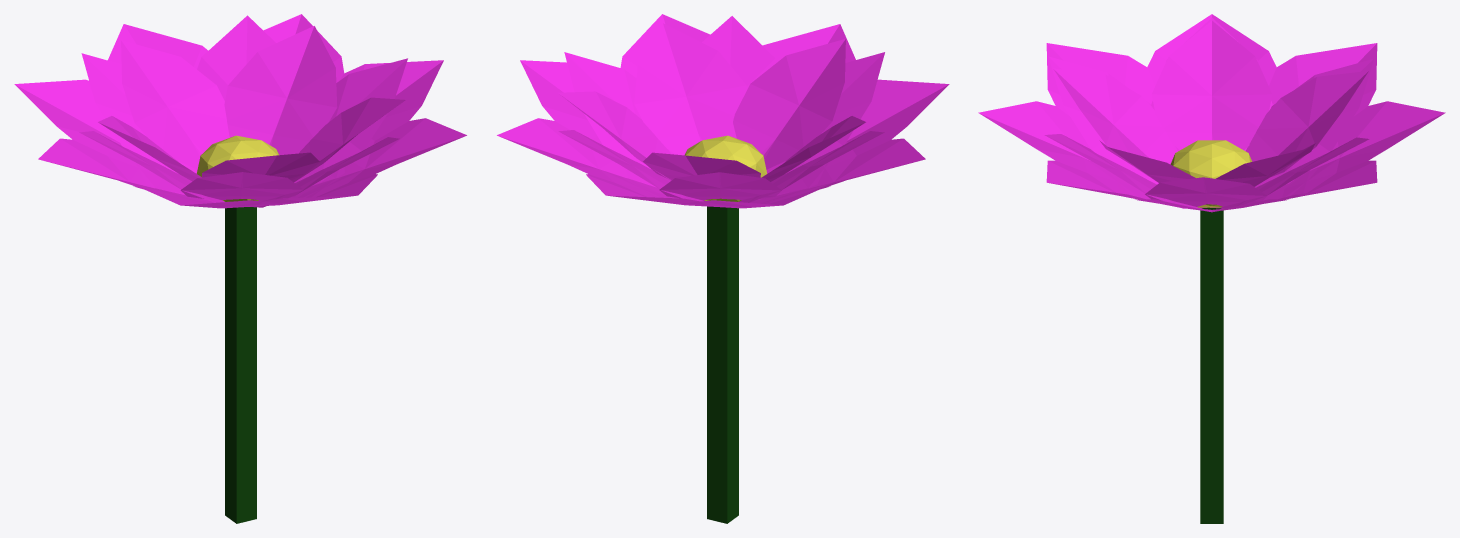
File: flower.obj
The picture shows the model from 3 angles, left to right: view 1: azimuth 30°, elevation 25°; view 2: azimuth 150°, elevation 25°; view 3: azimuth 270°, elevation 25°; orthographic projection.
Visible parts, largest first — view 1: 平面.002, 平面, 平面.001, 立方体, ICO球; view 2: 平面.002, 平面, 平面.001, 立方体, ICO球; view 3: 平面.002, 平面, 平面.001, 立方体, ICO球.
Boxes of the visible parts, left/top/right/bottom form: 平面.002: left=98, top=26, right=405, bottom=182; 平面: left=14, top=14, right=466, bottom=208; 平面.001: left=79, top=15, right=407, bottom=207; 立方体: left=225, top=207, right=256, bottom=523; ICO球: left=196, top=135, right=278, bottom=201; 平面.002: left=558, top=23, right=865, bottom=181; 平面: left=497, top=14, right=949, bottom=208; 平面.001: left=558, top=16, right=884, bottom=202; 立方体: left=707, top=206, right=738, bottom=523; ICO球: left=685, top=135, right=767, bottom=201; 平面.002: left=1053, top=21, right=1368, bottom=186; 平面: left=978, top=14, right=1445, bottom=212; 平面.001: left=1044, top=17, right=1373, bottom=208; 立方体: left=1200, top=207, right=1223, bottom=523; ICO球: left=1170, top=140, right=1252, bottom=207.
Bounding box in the file's own units: 3.99 × 4.04 × 3.99.
